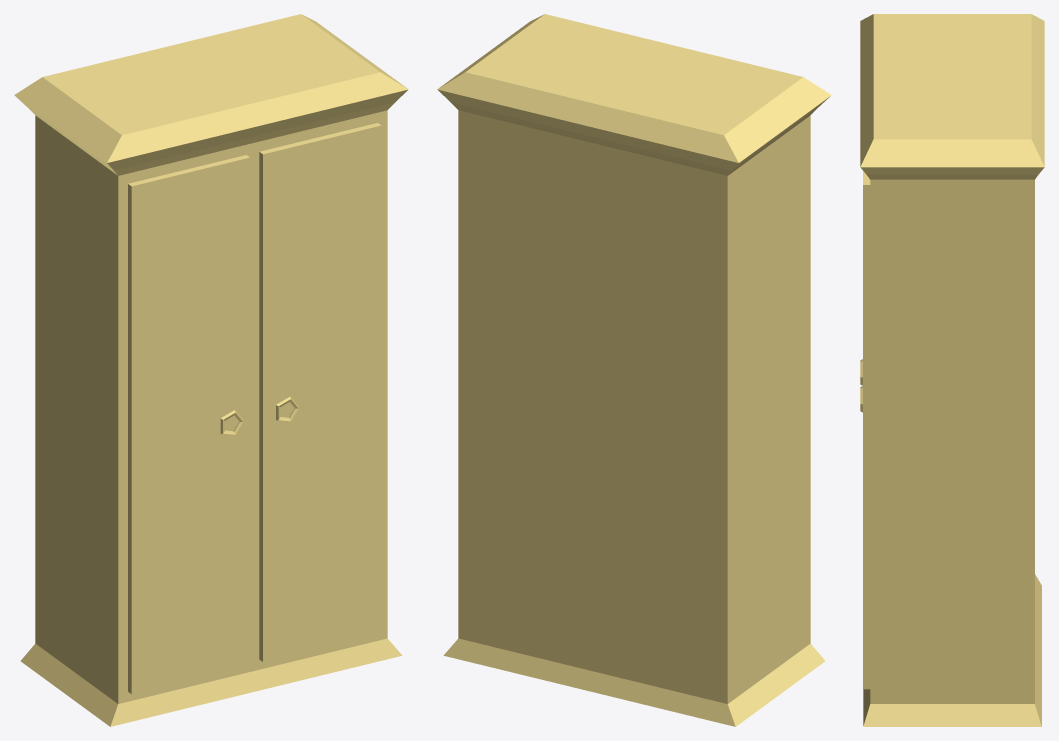
Rendered from Cabinet.fbx.
3 views of the same model, side by side, from view 1: azimuth 30°, elevation 25°; view 2: azimuth 150°, elevation 25°; view 3: azimuth 270°, elevation 25° (orthographic).
Parts seen in each view (by area): view 1: Cabinet; view 2: Cabinet; view 3: Cabinet.
Part boxes in pixels (box(x1,y1,x2,y2)): Cabinet: box(14, 14, 408, 726); Cabinet: box(437, 14, 831, 726); Cabinet: box(860, 14, 1044, 726).
Size of the model in its own units: 156 by 288 by 83.09.
